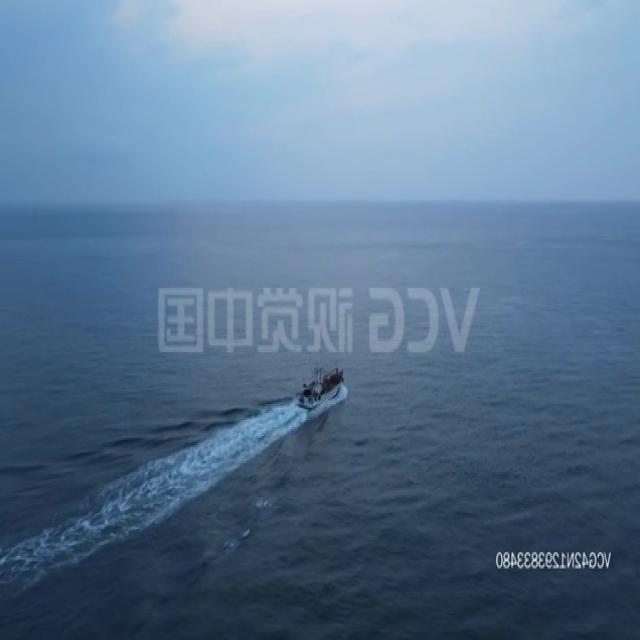houseboat: (297, 359, 343, 410)
